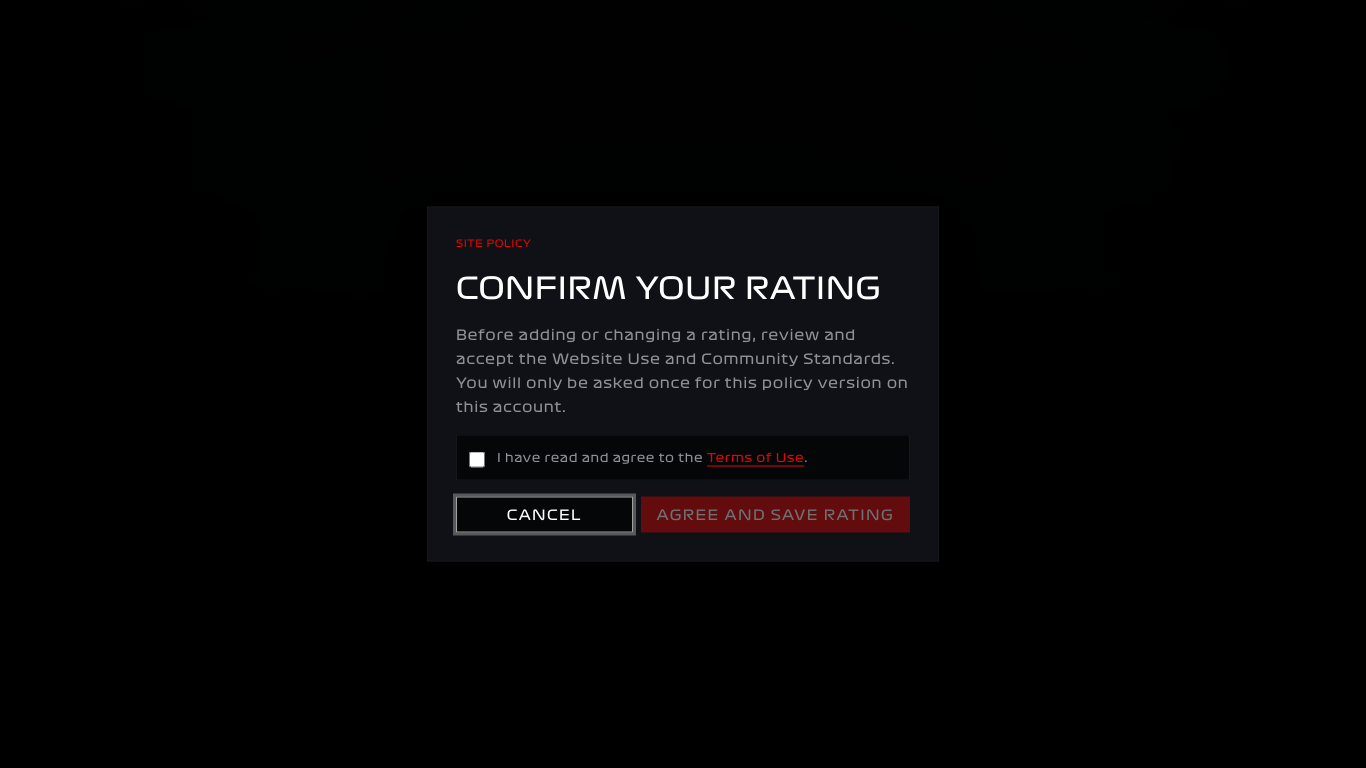
Test: site policy UI › requires the account holder to check the consent box before continuing
Expected: the button "AGREE AND SAVE RATING" is disabled, left=641, top=496, right=910, bottom=532
Click the checkbox labelled "I have read and agree to the" at (477, 460), box left=469, top=452, right=485, bottom=468
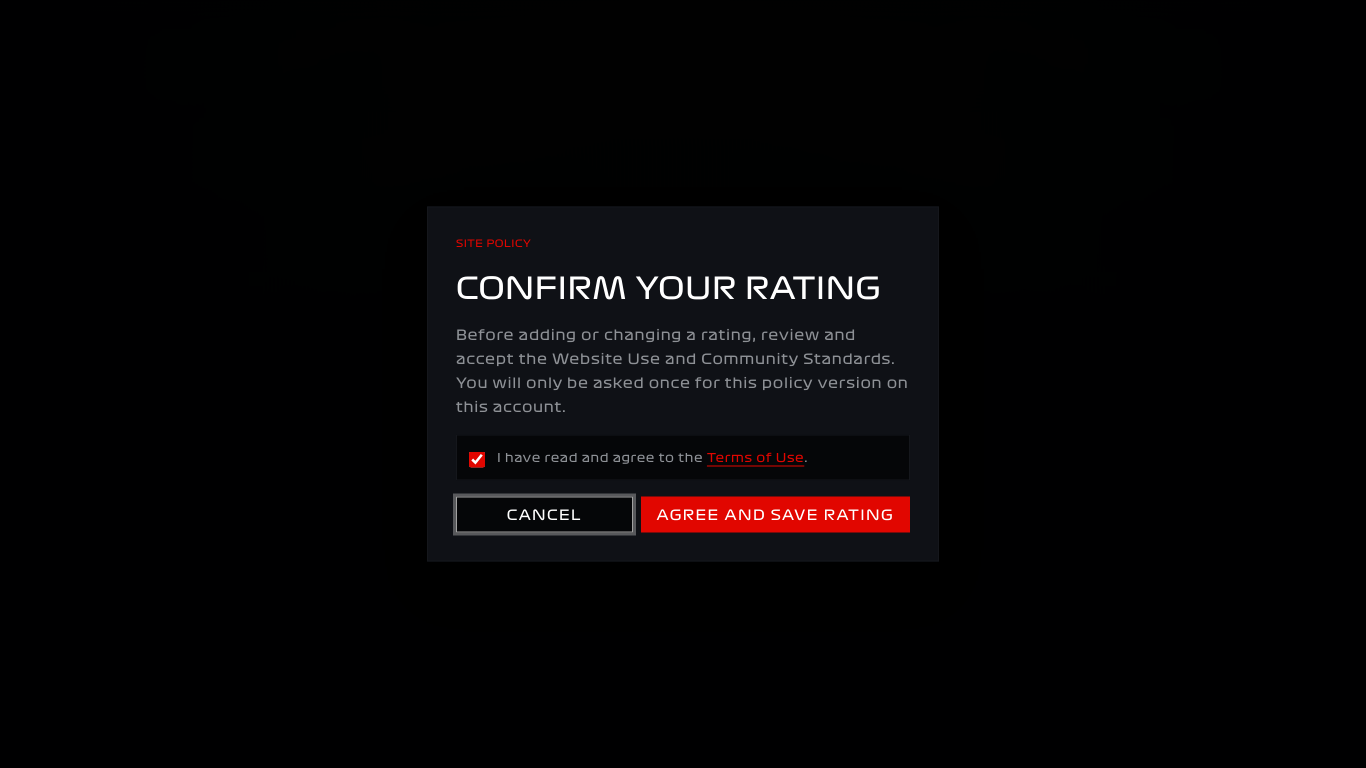
Expected: the button "AGREE AND SAVE RATING" is enabled, left=641, top=496, right=910, bottom=532
